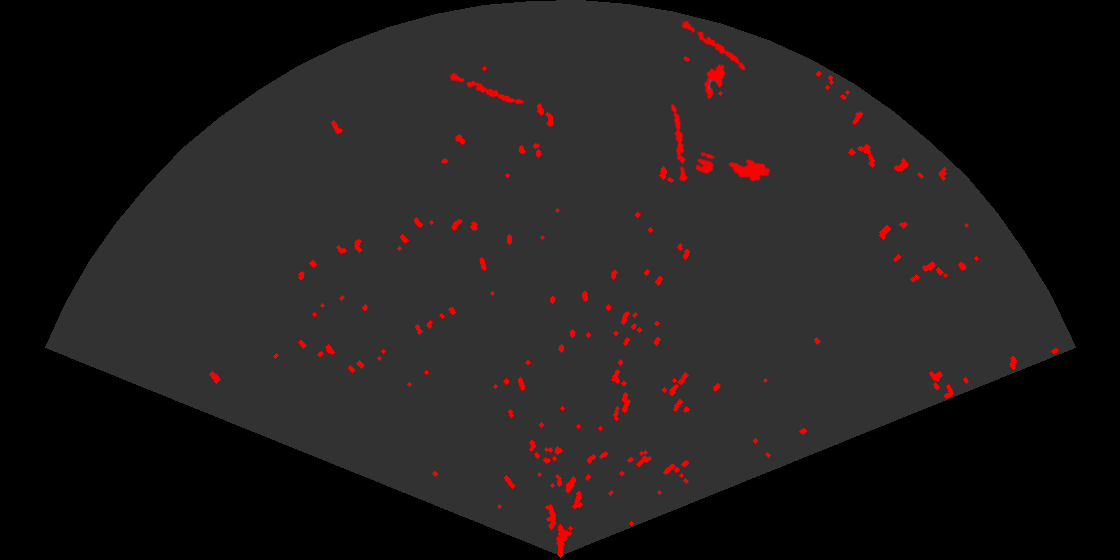AUV: (727, 158, 772, 183), (702, 62, 727, 101)
ball: (694, 150, 716, 176)
chain: (676, 16, 747, 72), (442, 70, 526, 106), (669, 102, 690, 182)
